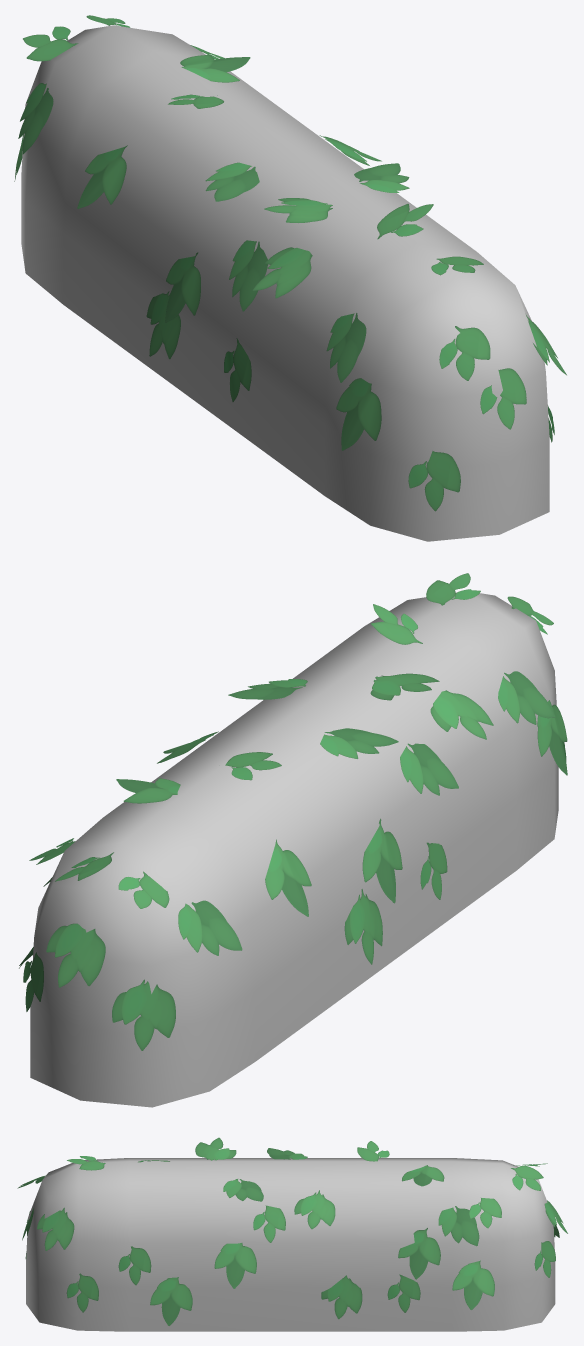
Rendered from OLD_Hedge3.fbx.
3 views of the same model, one above another, from view 1: azimuth 30°, elevation 25°; view 2: azimuth 150°, elevation 25°; view 3: azimuth 270°, elevation 25° (orthographic). The views are drawn at different scales.
Visible parts, largest first — view 1: Cube.026; view 2: Cube.026; view 3: Cube.026.
Boxes of the visible parts, x1,y1,x2,y2 form: Cube.026: (14, 15, 566, 541); Cube.026: (19, 573, 567, 1107); Cube.026: (17, 1137, 567, 1331).
Bounding box in the file's own units: 115 × 111 × 361.
